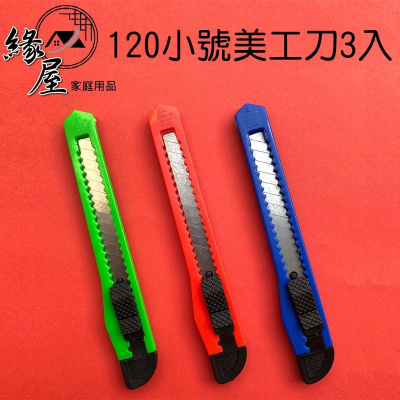cutter: (234, 103, 335, 386), (147, 105, 248, 385), (62, 108, 157, 391)
